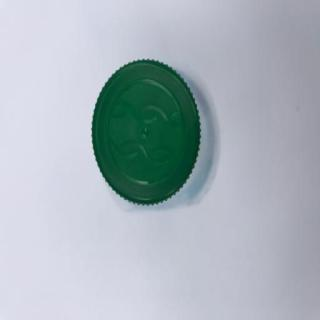Plastic-bottle: (89, 59, 222, 221)
